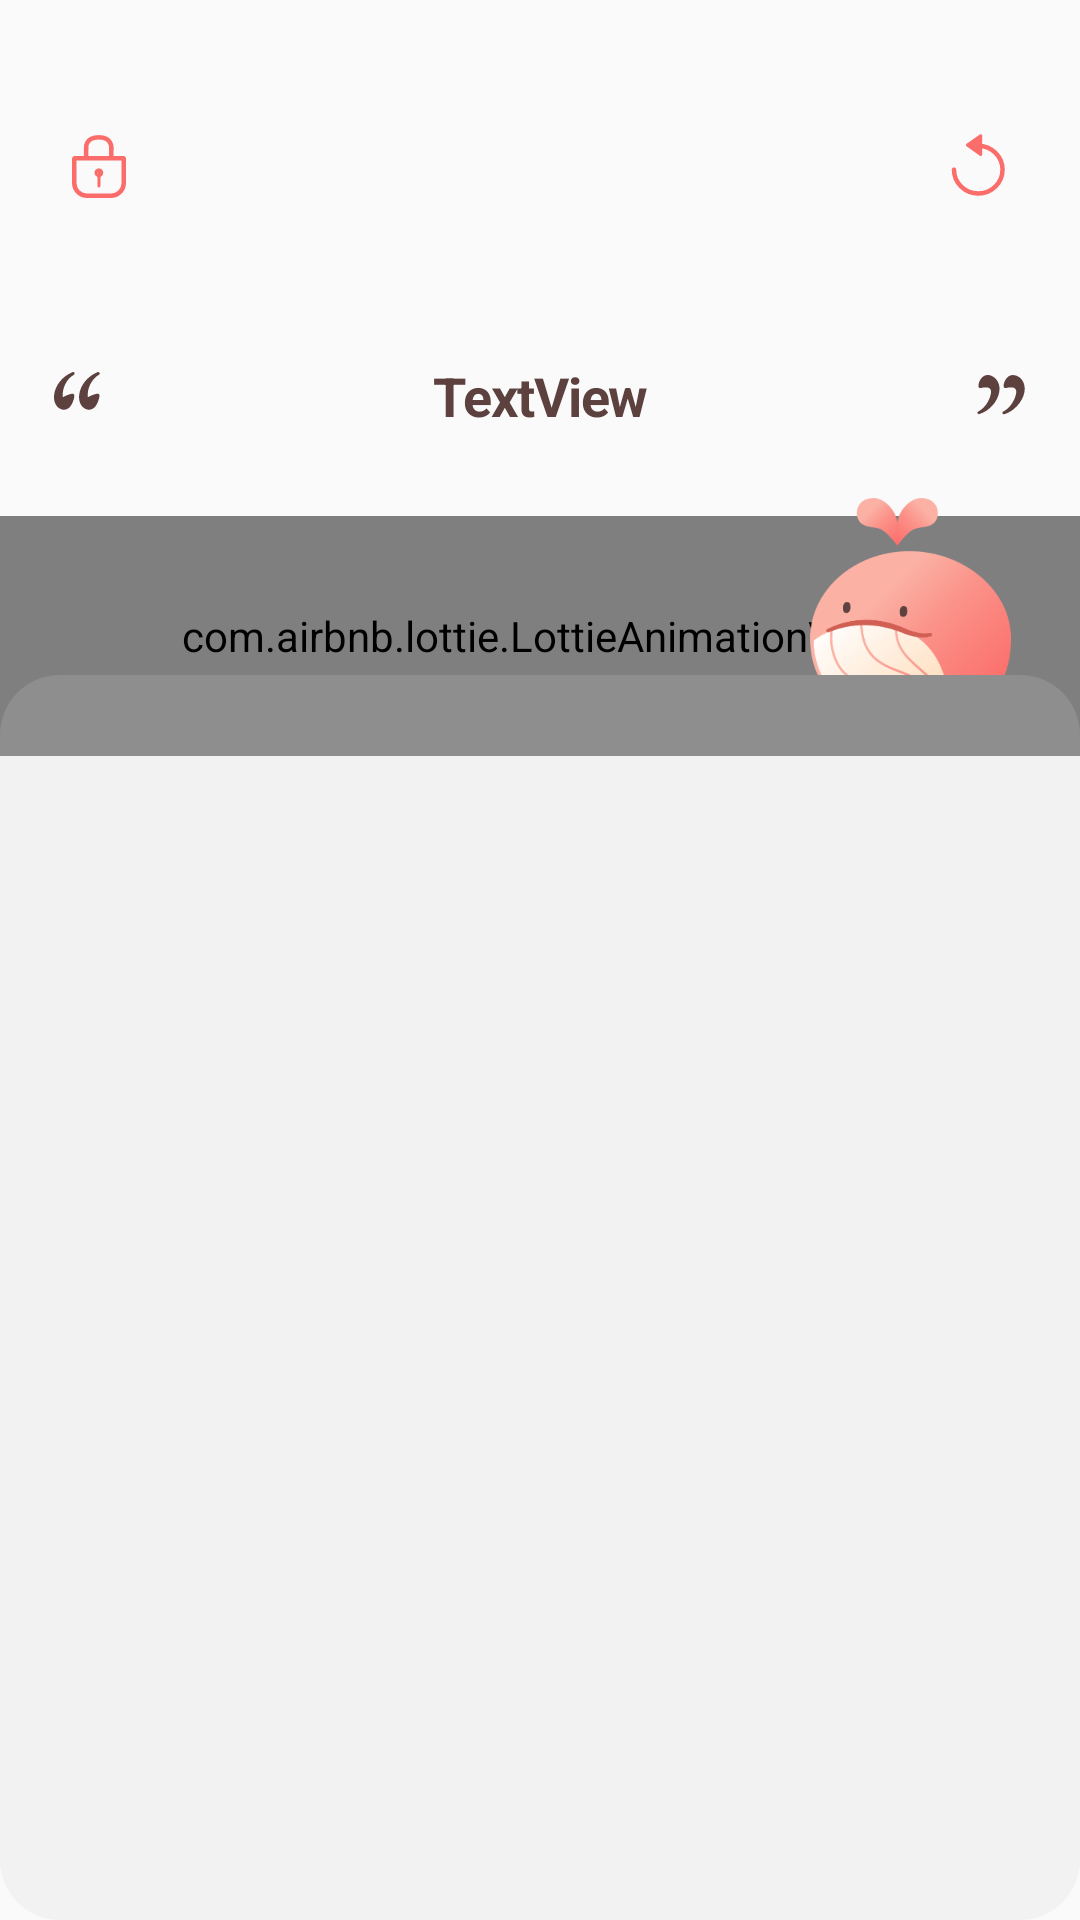

Icon click points for this 1080w x 1920h phone screenshot, format (x,y):
home quote left: (77,391)
home quote right: (1001,395)
